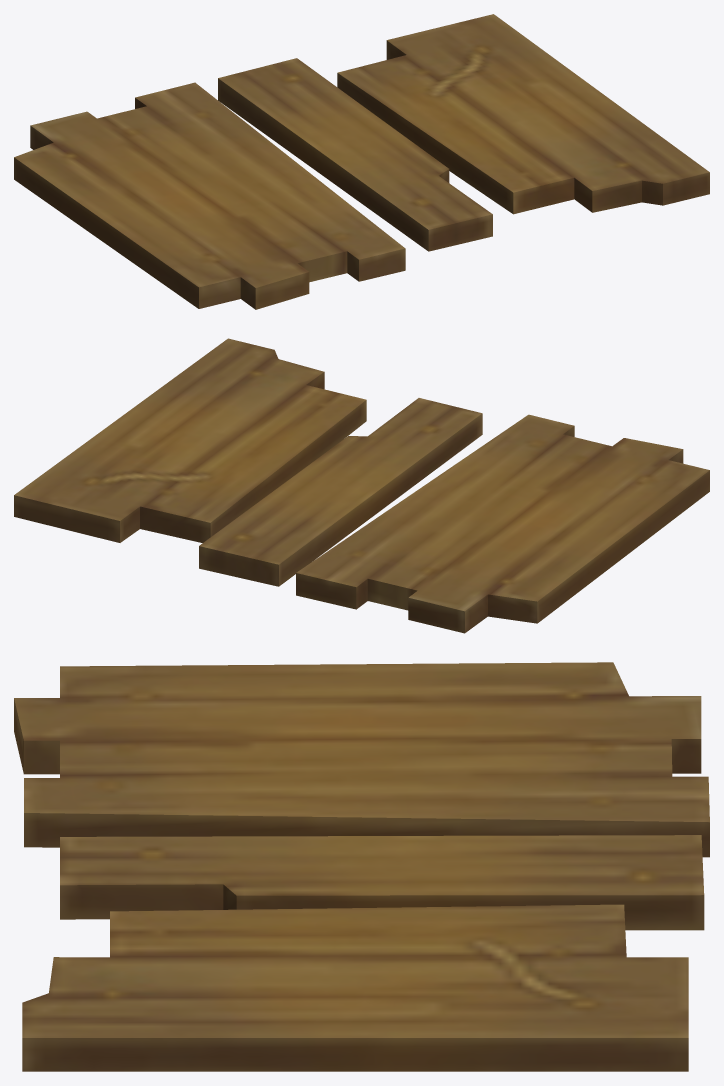
The model's file is Stage_ZhuCheng_MuBan01.FBX.
The picture shows the model from 3 angles, top to bottom: view 1: azimuth 30°, elevation 25°; view 2: azimuth 150°, elevation 25°; view 3: azimuth 270°, elevation 25°; orthographic projection. The views are drawn at different scales.
Parts seen in each view (by area): view 1: Stage_ZhuCheng_MuBan01; view 2: Stage_ZhuCheng_MuBan01; view 3: Stage_ZhuCheng_MuBan01.
Boxes of the visible parts, x1,y1,x2,y2 form: Stage_ZhuCheng_MuBan01: (14,14,709,309); Stage_ZhuCheng_MuBan01: (14,338,709,633); Stage_ZhuCheng_MuBan01: (14,662,709,1071).
Bounding box in the file's own units: 207 × 9.87 × 161.
